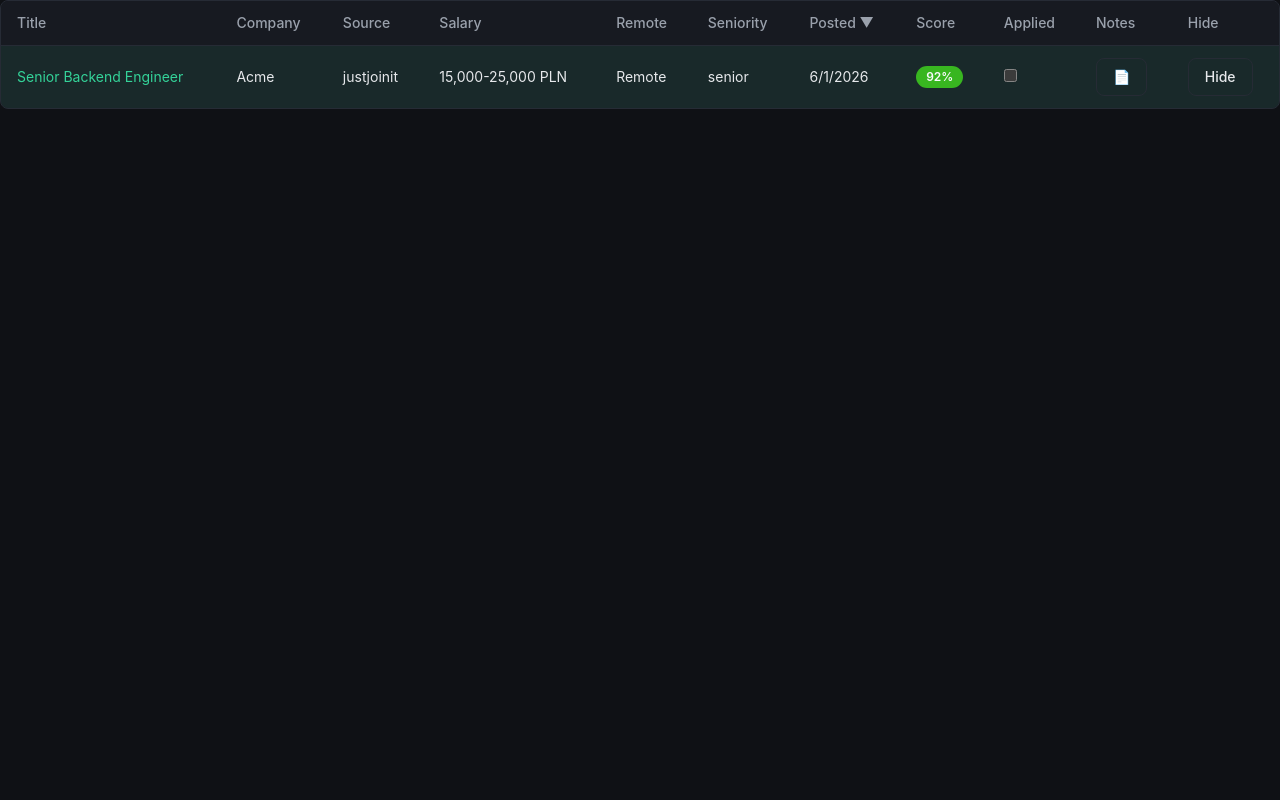
Test case: OfferTable › opens the drawer with that offer's breakdown when its badge is clicked
The image size is (1280, 800).
Click the button named "score 92%" at (940, 77), box [916,66,963,88]
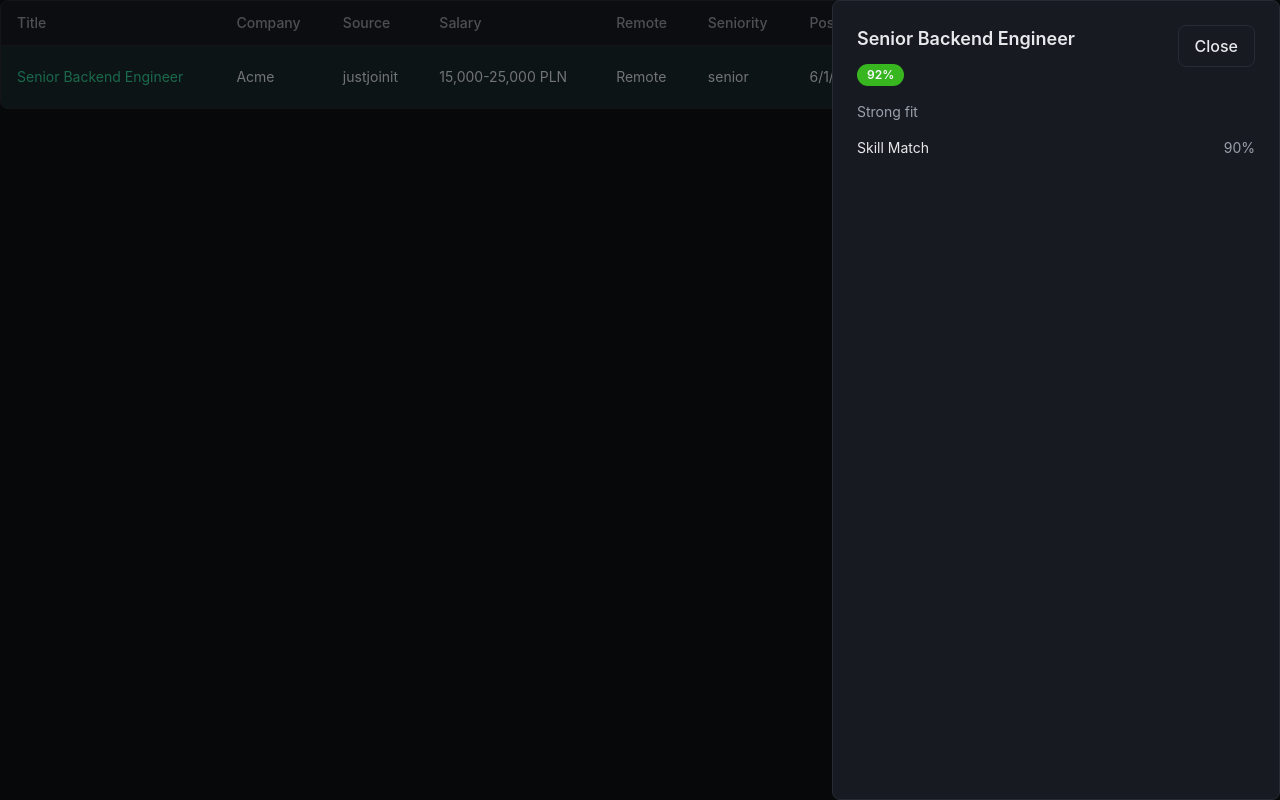
Expected: the dialog is shown, [832,0,1279,799]
Expected: the text "Strong fit" is shown, [857,103,918,120]
